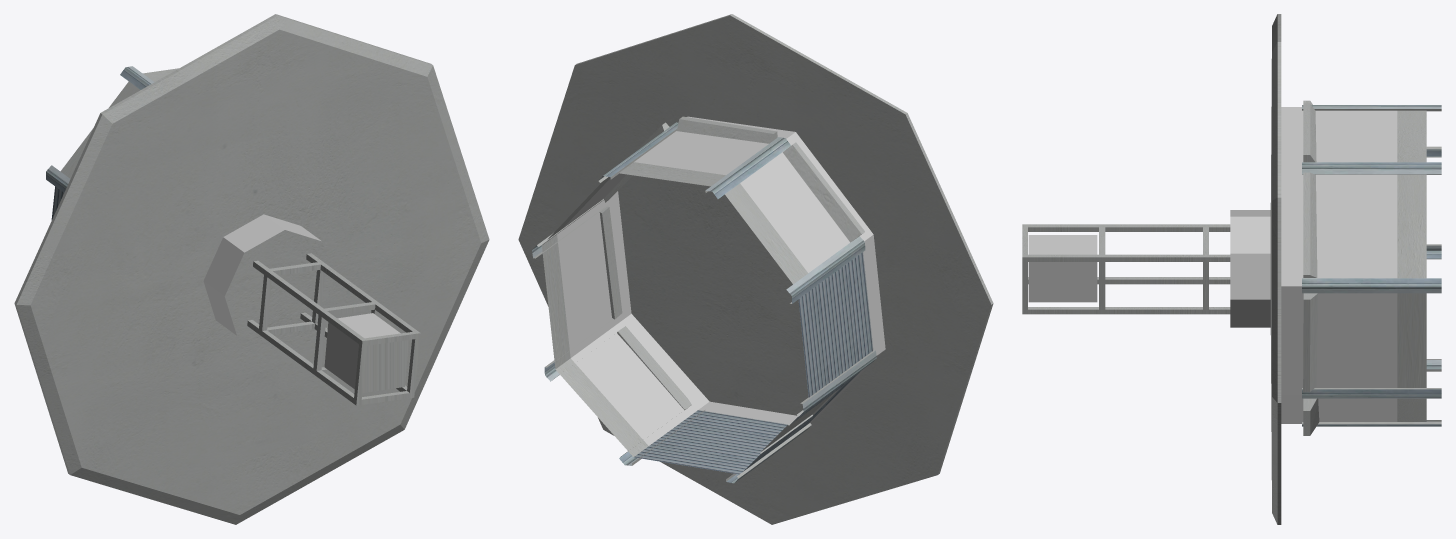
Rendered from nunne_17.obj.
The picture shows the model from 3 angles, left to right: view 1: azimuth 30°, elevation 25°; view 2: azimuth 150°, elevation 25°; view 3: azimuth 270°, elevation 25°; orthographic projection. The views are drawn at different scales.
Parts seen in each view (by area): view 1: nunne_17_Cylinder.007; view 2: nunne_17_Cylinder.007; view 3: nunne_17_Cylinder.007.
Part boxes in pixels (x1,y1,x2,y2): nunne_17_Cylinder.007: [14, 14, 489, 524]; nunne_17_Cylinder.007: [518, 14, 993, 524]; nunne_17_Cylinder.007: [1022, 14, 1441, 524].
Bounding box in the file's own units: 10.44 × 10.53 × 8.41.
